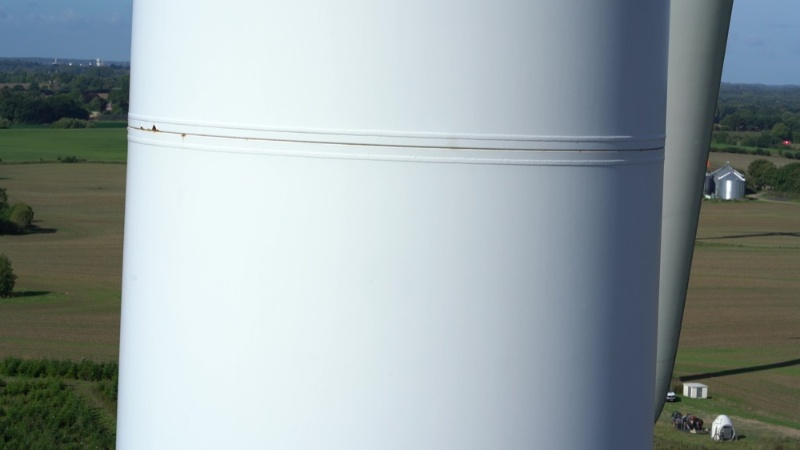weldseam: (126, 106, 670, 145), (125, 133, 667, 168)
